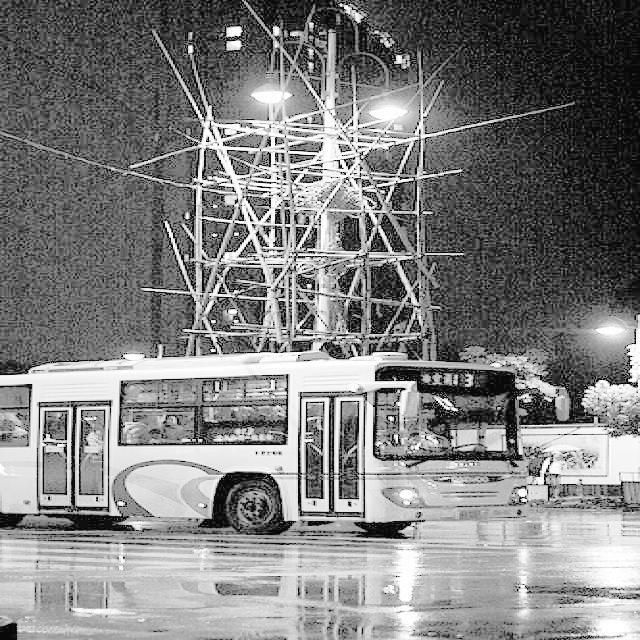Bus: (0, 339, 543, 580)
